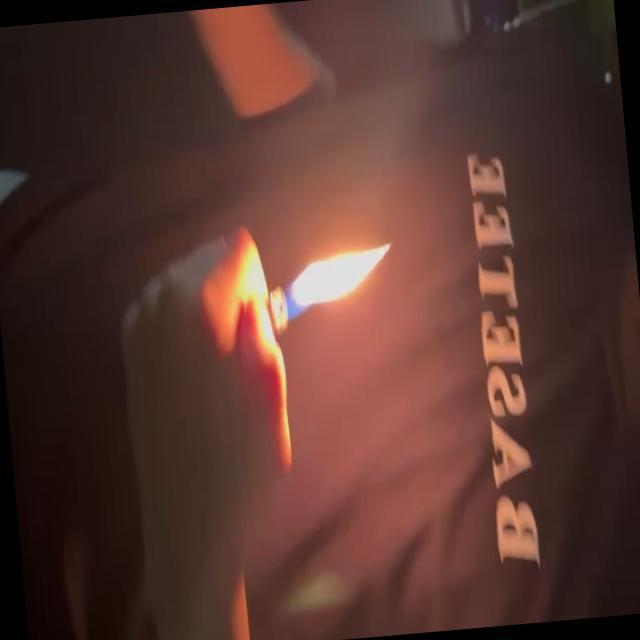Fire: (281, 235, 404, 330)
